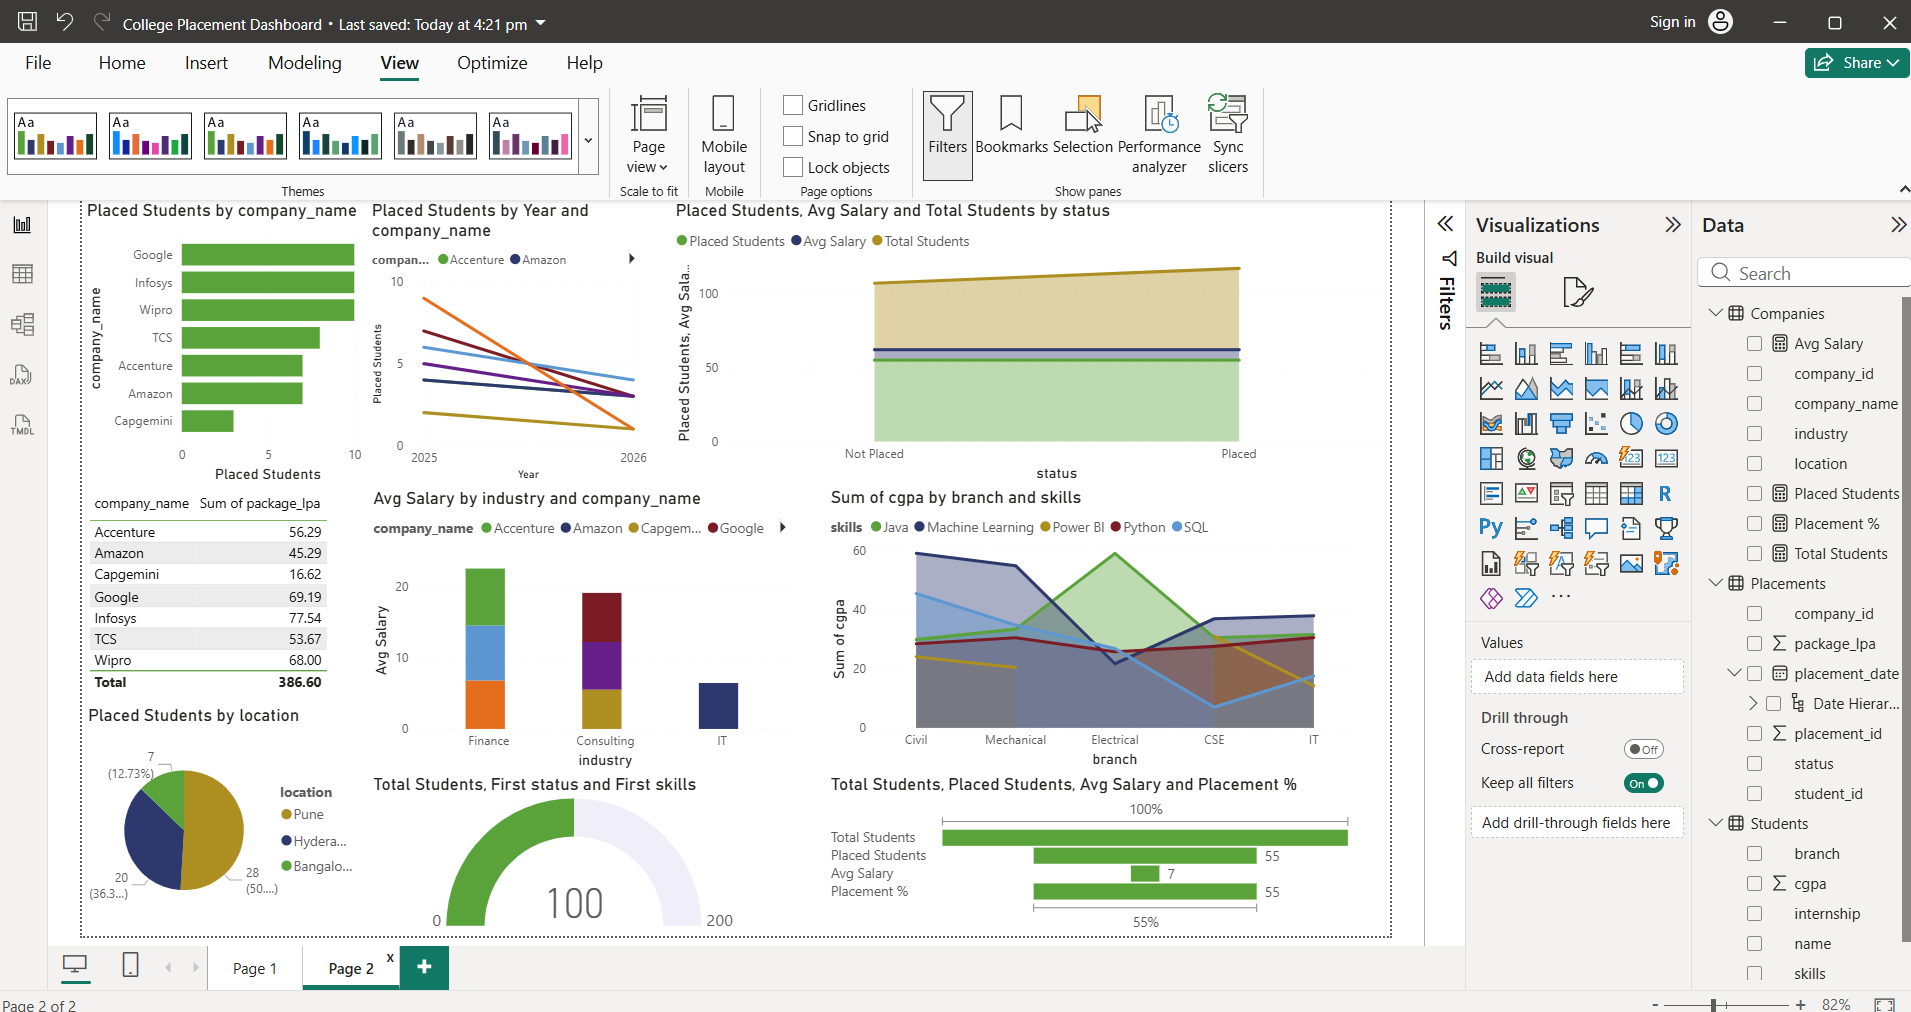

The page's visual inventory and layout, read from the dashboard file:
{"tool":"powerbi","page":{"name":"Page 2","canvas":[1280,720],"ordinal":1},"visuals":[{"type":"barChart","fields":{"Category":["Companies.company_name"],"Y":["Companies.Placed Students"]},"box":[0,0,278.6,281.3],"z":0},{"type":"tableEx","fields":{"Values":["Companies.company_name","Sum(Placements.package_lpa)"]},"box":[1.4,279.9,278.6,279.9],"z":1000},{"type":"lineChart","fields":{"Category":["Placements.placement_date.Variation.Date Hierarchy.Year","Placements.placement_date.Variation.Date Hierarchy.Quarter","Placements.placement_date.Variation.Date Hierarchy.Month","Placements.placement_date.Variation.Date Hierarchy.Day"],"Y":["Companies.Placed Students"],"Series":["Companies.company_name"]},"box":[278.6,0,278.6,279.9],"z":2000},{"type":"stackedAreaChart","fields":{"Y":["Companies.Placed Students","Companies.Avg Salary","Companies.Total Students"],"Category":["Placements.status"]},"box":[576.3,0,703.9,279.9],"z":2001},{"type":"ribbonChart","fields":{"Category":["Companies.industry"],"Series":["Companies.company_name"],"Y":["Companies.Avg Salary"]},"box":[279.9,281.3,419.9,279.9],"z":2002},{"type":"areaChart","fields":{"Category":["Students.branch"],"Y":["Sum(Students.cgpa)"],"Series":["Students.skills"]},"box":[727.3,279.9,521.4,279.9],"z":2003},{"type":"pieChart","fields":{"Category":["Companies.location"],"Y":["Companies.Placed Students"]},"box":[1.4,494,278.6,226.4],"z":2004},{"type":"gauge","fields":{"Y":["Companies.Total Students"]},"box":[280,561,420,159],"z":2005},{"type":"funnel","fields":{"Y":["Companies.Total Students","Companies.Placed Students","Companies.Avg Salary","Companies.Placement %"]},"box":[727,561,521,159],"z":2006}]}

Visuals, with their boxes on the page's 1280x720 design canvas (x1, y1, x2, y2). These are canvas units, not pixel positions in the 1911x1012 screenshot, which may show the page scaled, cropped or inside an application window:
barChart - Companies.company_name x Companies.Placed Students: select_region(0, 0, 279, 281)
tableEx - Companies.company_name x Sum(Placements.package_lpa): select_region(1, 280, 280, 560)
lineChart - Placements.placement_date.Variation.Date Hierarchy.Year x Placements.placement_date.Variation.Date Hierarchy.Quarter: select_region(279, 0, 557, 280)
stackedAreaChart - Companies.Placed Students x Companies.Avg Salary: select_region(576, 0, 1280, 280)
ribbonChart - Companies.industry x Companies.company_name: select_region(280, 281, 700, 561)
areaChart - Students.branch x Sum(Students.cgpa): select_region(727, 280, 1249, 560)
pieChart - Companies.location x Companies.Placed Students: select_region(1, 494, 280, 720)
gauge - Companies.Total Students: select_region(280, 561, 700, 720)
funnel - Companies.Total Students x Companies.Placed Students: select_region(727, 561, 1248, 720)
